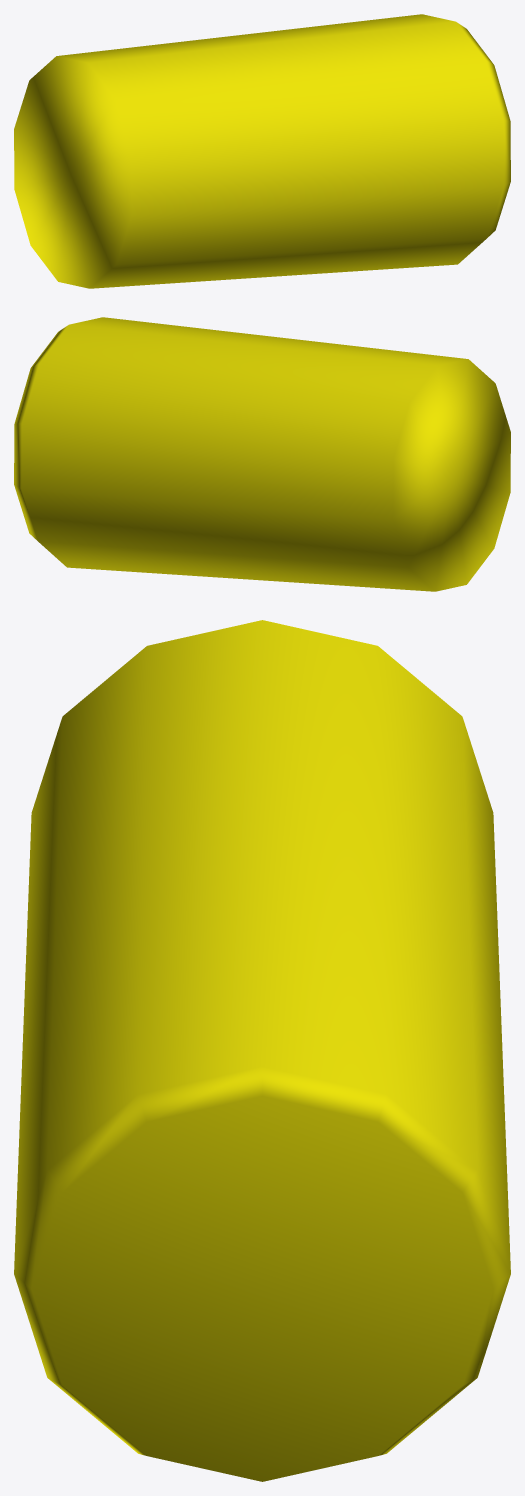
Rendered from Wide_Plunger_Box_Cylinder.fbx.
The picture shows the model from 3 angles, top to bottom: view 1: azimuth 30°, elevation 25°; view 2: azimuth 150°, elevation 25°; view 3: azimuth 270°, elevation 25°; orthographic projection. The views are drawn at different scales.
Parts seen in each view (by area): view 1: Wide_Plunger_Box_Cylinder; view 2: Wide_Plunger_Box_Cylinder; view 3: Wide_Plunger_Box_Cylinder.
Part boxes in pixels (x1,y1,x2,y2): Wide_Plunger_Box_Cylinder: [14, 14, 510, 288]; Wide_Plunger_Box_Cylinder: [14, 317, 510, 591]; Wide_Plunger_Box_Cylinder: [14, 620, 510, 1481].
Bounding box in the file's own units: 3.54 × 2.29 × 1.91.
